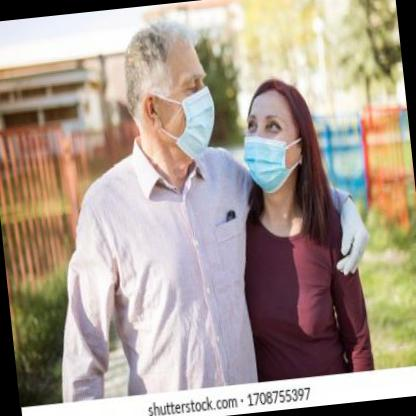Gloves: (329, 195, 371, 275)
